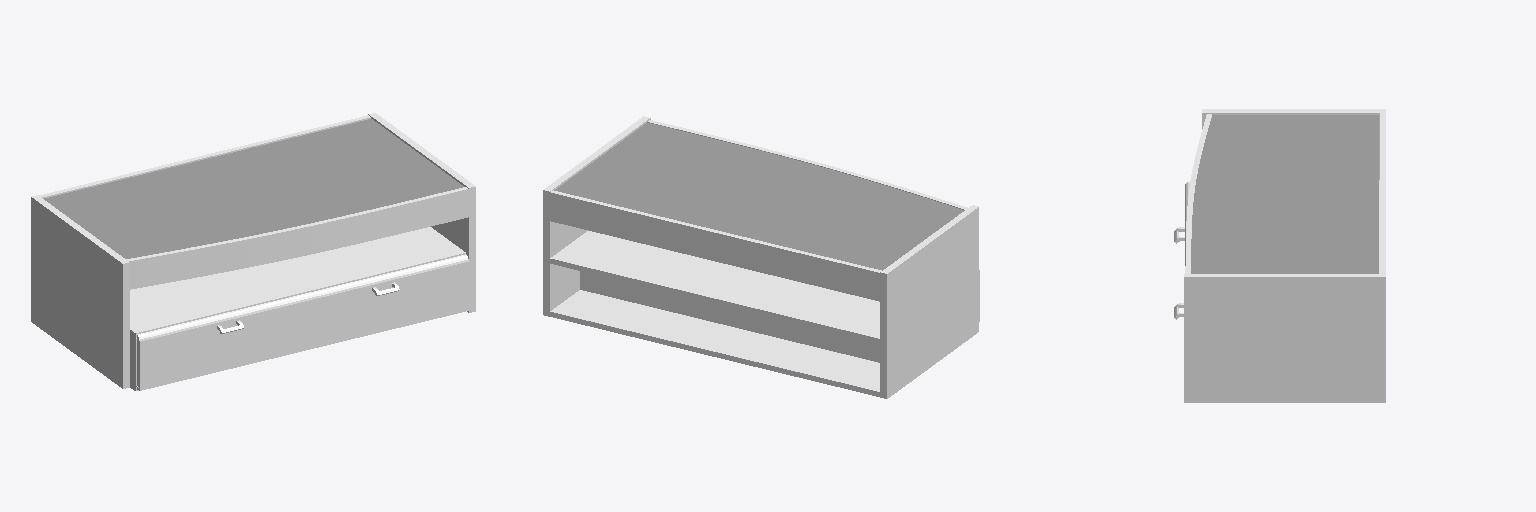
The model's file is tableBasse.obj.
3 views of the same model, side by side, from view 1: azimuth 30°, elevation 25°; view 2: azimuth 150°, elevation 25°; view 3: azimuth 270°, elevation 25° (orthographic).
Parts seen in each view (by area): view 1: Boolean_1_9, Cube_8_11, Cube_1_1, Cube_4_4, Extruded_Object_4_8, Boolean_2_13, Cube_3_3, Cube_2_2; view 2: Boolean_1_9, Cube_4_4, Cube_1_1, Cube_7_7, Cube_2_2, Cube_6_6, Cube_3_3, Extruded_Object_4_8; view 3: Boolean_1_9, Cube_3_3, Cube_1_1, Cube_2_2, Extruded_Object_4_8.
Boxes of the visible parts, box(x1,y1,x2,y2) form: Boolean_1_9: box(44, 119, 463, 258); Cube_8_11: box(137, 262, 468, 390); Cube_1_1: box(31, 195, 129, 388); Cube_4_4: box(130, 227, 465, 338); Extruded_Object_4_8: box(126, 187, 468, 289); Boolean_2_13: box(137, 254, 468, 341); Cube_3_3: box(368, 113, 475, 312); Cube_2_2: box(39, 115, 370, 198); Boolean_1_9: box(554, 123, 964, 270); Cube_4_4: box(550, 231, 879, 343); Cube_1_1: box(880, 205, 978, 398); Cube_7_7: box(550, 290, 879, 396); Cube_2_2: box(550, 190, 881, 301); Cube_6_6: box(580, 271, 879, 362); Cube_3_3: box(543, 116, 650, 316); Extruded_Object_4_8: box(647, 120, 967, 209); Boolean_1_9: box(1191, 115, 1378, 273); Cube_3_3: box(1184, 274, 1385, 402); Cube_1_1: box(1202, 109, 1385, 179); Cube_2_2: box(1380, 113, 1385, 273); Extruded_Object_4_8: box(1185, 114, 1212, 273).
Size of the model in its own units: 113 by 39.14 by 59.83.